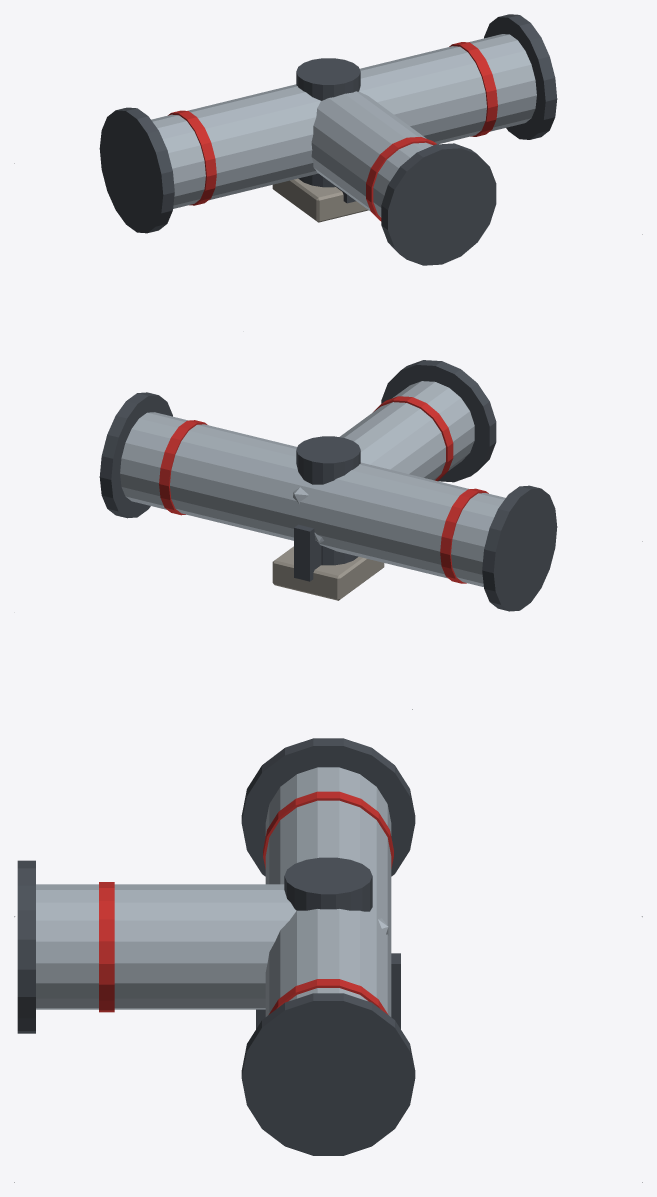
Rendered from tuyau_te_t3.glb.
3 renders of one model, top to bottom at view 1: azimuth 30°, elevation 25°; view 2: azimuth 150°, elevation 25°; view 3: azimuth 270°, elevation 25°, orthographic. The views are drawn at different scales.
Visible parts, largest first — view 1: pieces_inox.014, pieces_acier_sombre.044, pieces_rive_t3.014, pieces_beton.044; view 2: pieces_inox.014, pieces_acier_sombre.044, pieces_rive_t3.014, pieces_beton.044; view 3: pieces_inox.014, pieces_acier_sombre.044, pieces_rive_t3.014.
Part boxes in pixels (left/top/right/bottom): pieces_inox.014: left=151, top=34, right=536, bottom=217; pieces_acier_sombre.044: left=99, top=14, right=557, bottom=265; pieces_rive_t3.014: left=168, top=42, right=497, bottom=221; pieces_beton.044: left=272, top=178, right=368, bottom=222; pieces_inox.014: left=120, top=381, right=505, bottom=586; pieces_acier_sombre.044: left=99, top=360, right=557, bottom=611; pieces_rive_t3.014: left=159, top=396, right=488, bottom=583; pieces_beton.044: left=272, top=546, right=384, bottom=600; pieces_inox.014: left=36, top=767, right=391, bottom=1016; pieces_acier_sombre.044: left=17, top=738, right=415, bottom=1155; pieces_rive_t3.014: left=99, top=791, right=393, bottom=1014.
Bounding box in the file's own units: 1 × 0.318 × 1.
